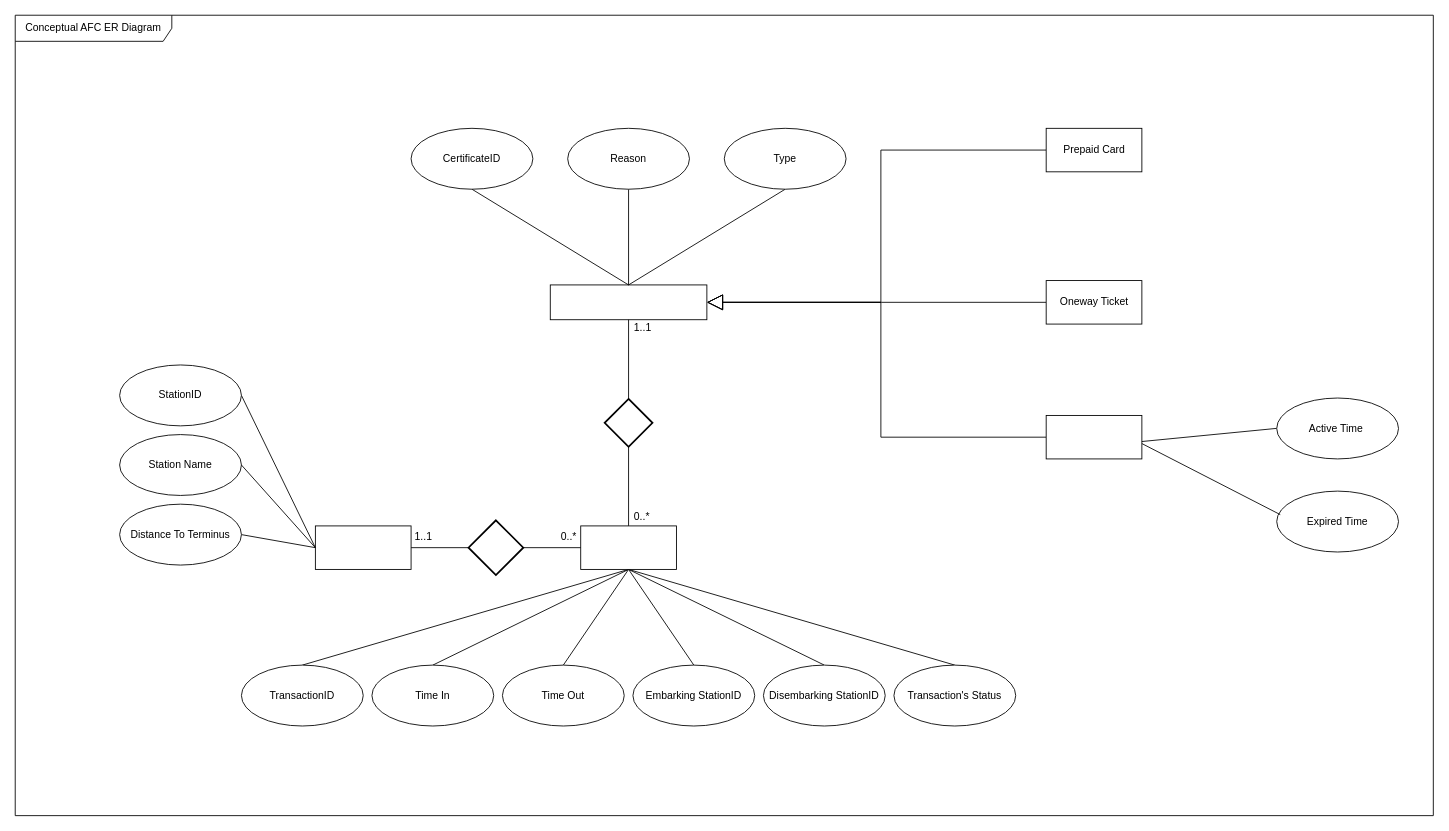
Some shapes in this 1449 by 831 pixel diagram are drawn without their labels. The shapes that lost their labels are listed below. From the top down, each one's centre as x and y in pixels, then its label:
[628,302]: Travel Certificate Information
[628,422]: Has
[1093,437]: 24hour Ticket
[363,547]: Station System
[495,547]: Include
[628,547]: Transaction History
